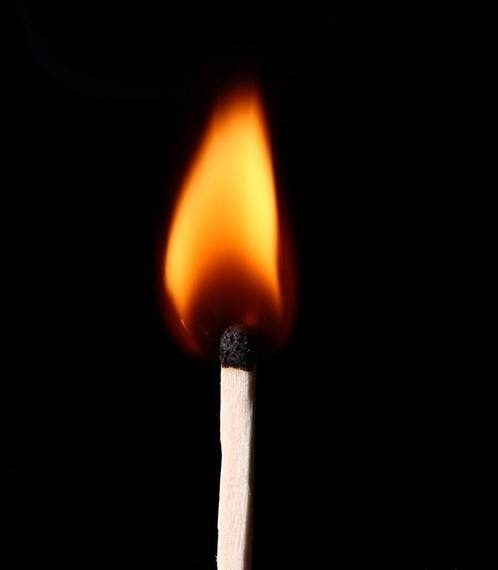fire: (160, 85, 286, 329)
